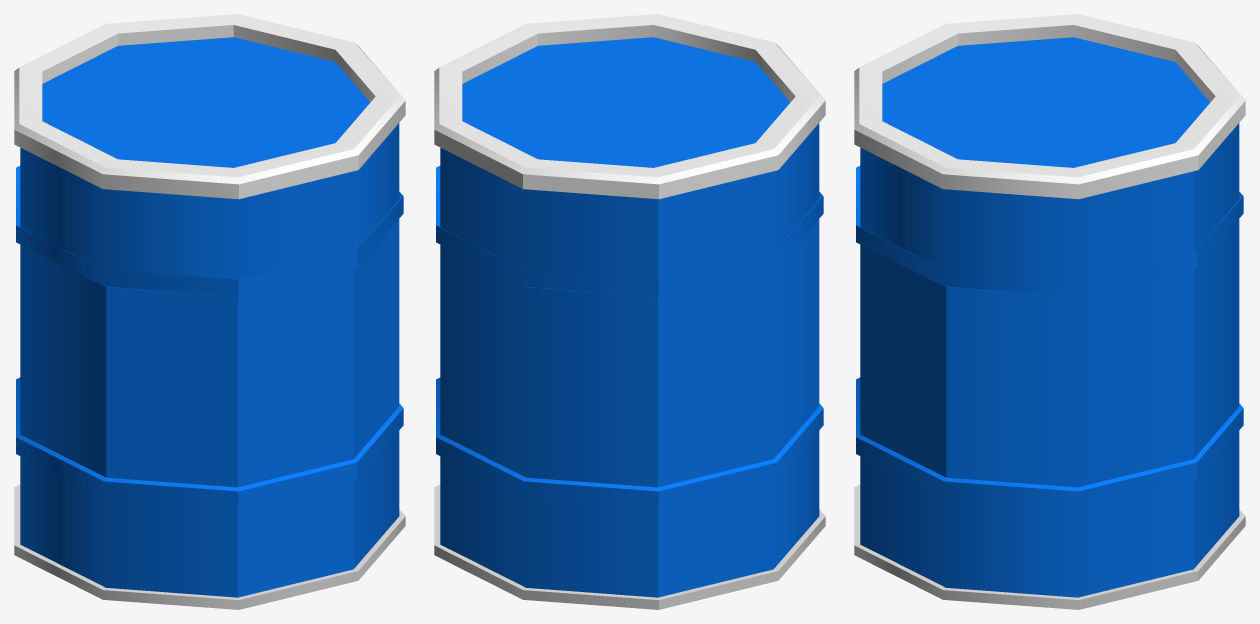
The model's file is barrel.gltf.
3 renders of one model, left to right at view 1: azimuth 30°, elevation 25°; view 2: azimuth 150°, elevation 25°; view 3: azimuth 270°, elevation 25°, orthographic.
Visible parts, largest first — view 1: Cylinder; view 2: Cylinder; view 3: Cylinder.
Boxes of the visible parts, x1,y1,x2,y2 form: Cylinder: (14,14,405,609); Cylinder: (434,14,825,609); Cylinder: (854,14,1245,609).
Size of the model in its own units: 0.7119 by 0.8504 by 0.7011.
